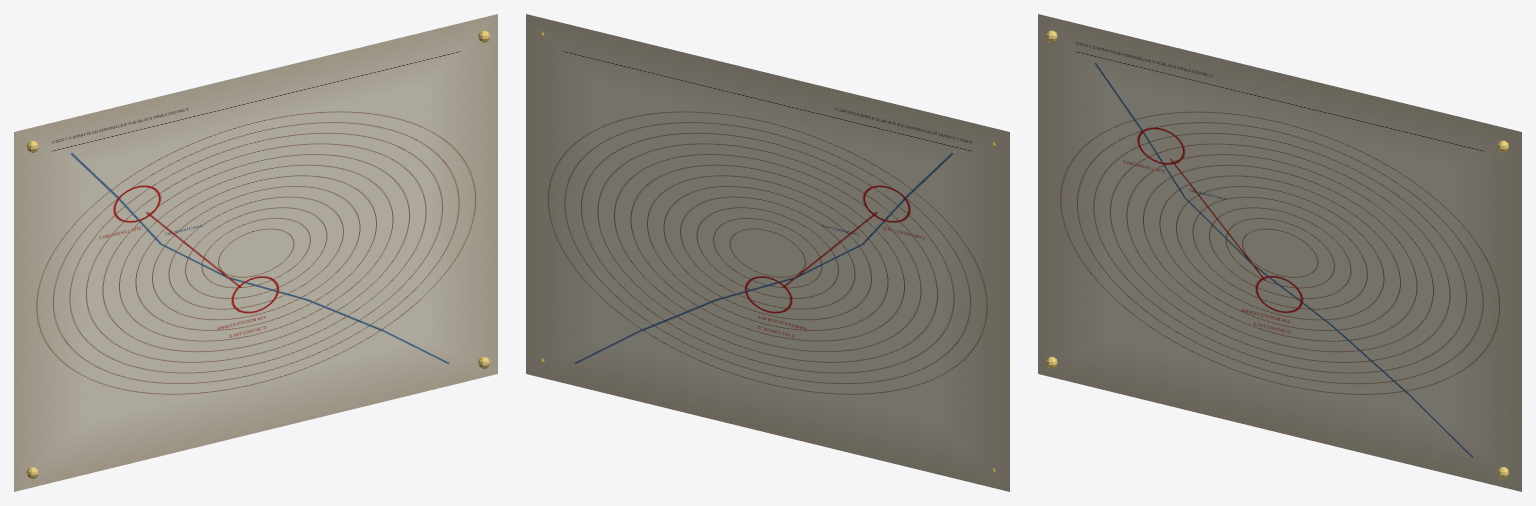
File: prop_topomap.glb
3 renders of one model, left to right at view 1: azimuth 30°, elevation 25°; view 2: azimuth 150°, elevation 25°; view 3: azimuth 330°, elevation 25°, orthographic.
Parts seen in each view (by area): view 1: Prop_TopoMap; view 2: Prop_TopoMap; view 3: Prop_TopoMap.
Part boxes in pixels (x1,y1,x2,y2): Prop_TopoMap: (14, 14, 497, 491); Prop_TopoMap: (526, 14, 1009, 491); Prop_TopoMap: (1038, 14, 1521, 491).
Bounding box in the file's own units: 0.9 × 0.64 × 0.02.
Materials: 2 (1 with a texture image).
